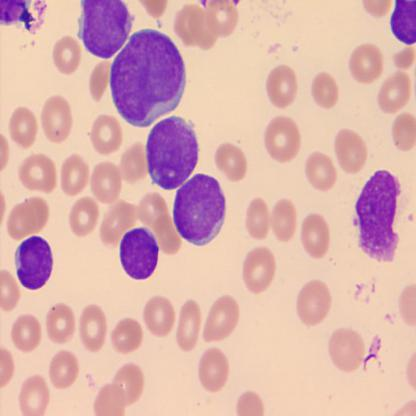Blast: (108, 25, 188, 131), (144, 112, 201, 193), (172, 170, 228, 247), (116, 221, 162, 282), (13, 233, 55, 290)
